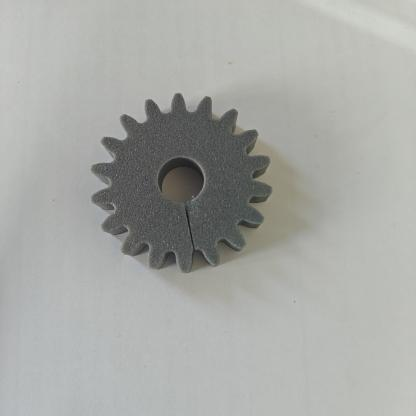defect: (163, 193, 225, 272)
gear: (88, 89, 277, 282)
